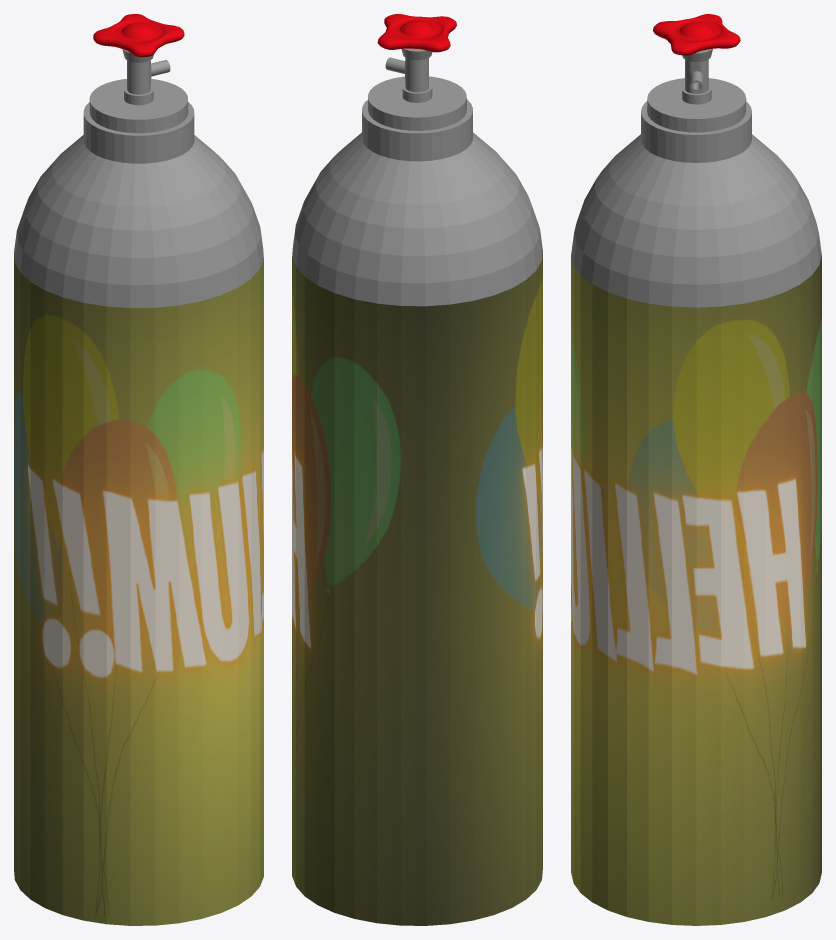
File: helyum.fbx
3 views of the same model, side by side, from view 1: azimuth 30°, elevation 25°; view 2: azimuth 150°, elevation 25°; view 3: azimuth 270°, elevation 25° (orthographic).
Visible parts, largest first — view 1: Circle, Circle.002; view 2: Circle, Circle.002; view 3: Circle, Circle.002.
Part boxes in pixels (left/top/right/bottom): Circle: left=14, top=49, right=263, bottom=925; Circle.002: left=93, top=14, right=184, bottom=57; Circle: left=292, top=48, right=542, bottom=925; Circle.002: left=377, top=14, right=456, bottom=52; Circle: left=571, top=48, right=821, bottom=925; Circle.002: left=653, top=14, right=740, bottom=55.
Size of the model in its own units: 200 by 747 by 200.
3 materials, 1 textured.
